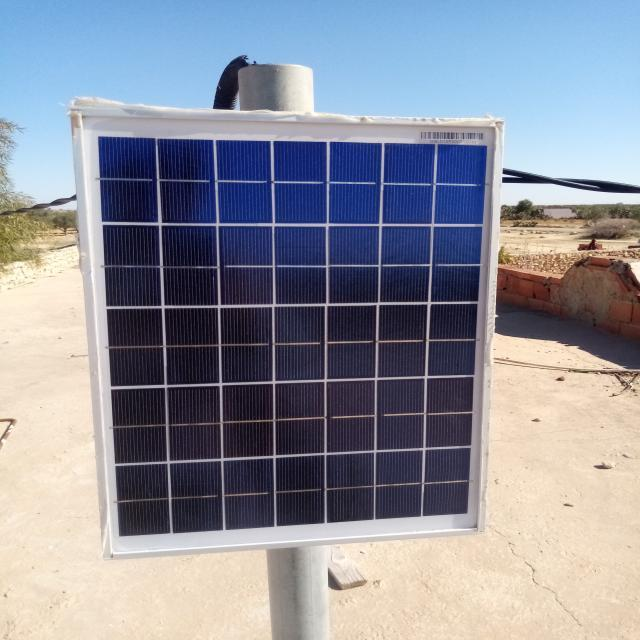no faulty: (74, 111, 503, 557)
